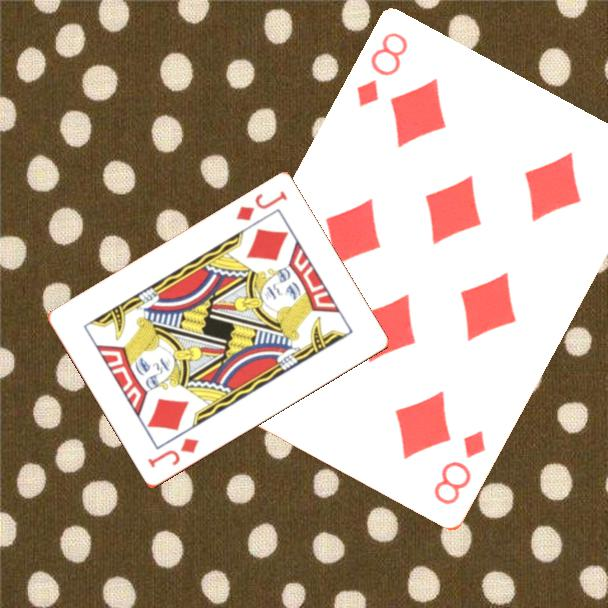d08: (430, 427, 489, 509), (353, 29, 411, 111)
d11: (144, 435, 202, 471), (232, 188, 290, 224)
